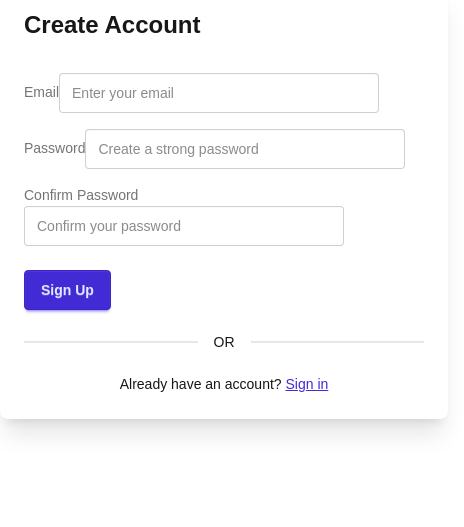
Scenario: SignUpForm › Form Submission › shows success message and redirects after successful sign up
The image size is (464, 527).
Type "test@example.com" into the field with placeholder "Enter your email" at (219, 93), box [59,73,379,113]
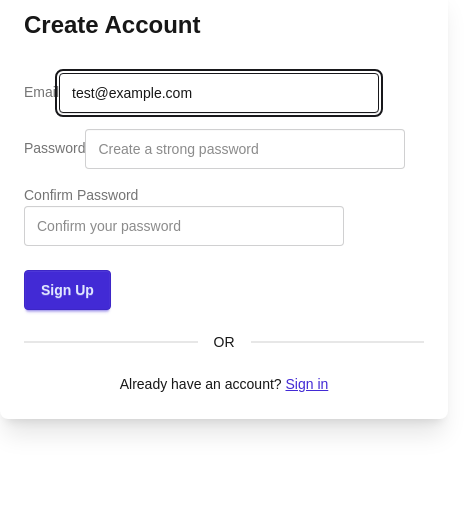
Type "Password123" into the password field with placeholder "Create a strong password" at (246, 149), box [86,129,406,169]
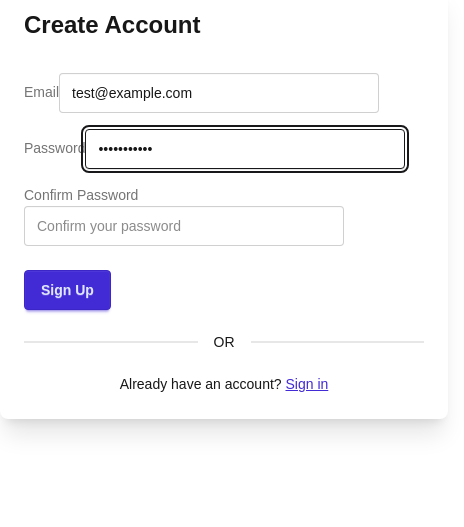
Type "Password123" into the password field with placeholder "Confirm your password" at (184, 226), box [24,206,344,246]
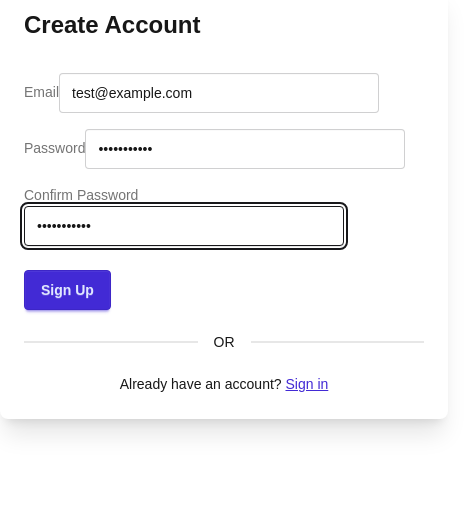
Click the button "Sign Up" at (67, 290), box [24,270,111,310]
Wait 2000 ms
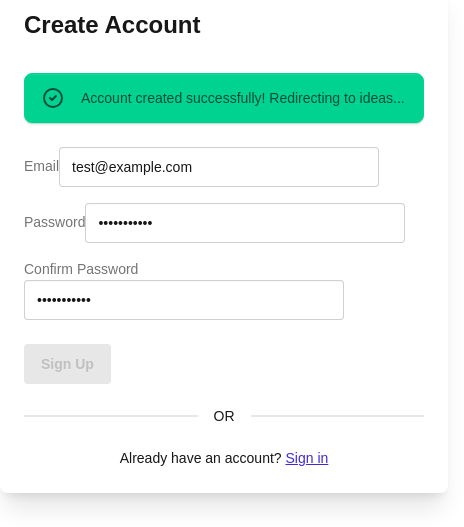
expect the text "Account created successfully! Redirecting to ideas..." is shown: met, box [81,88,405,108]
